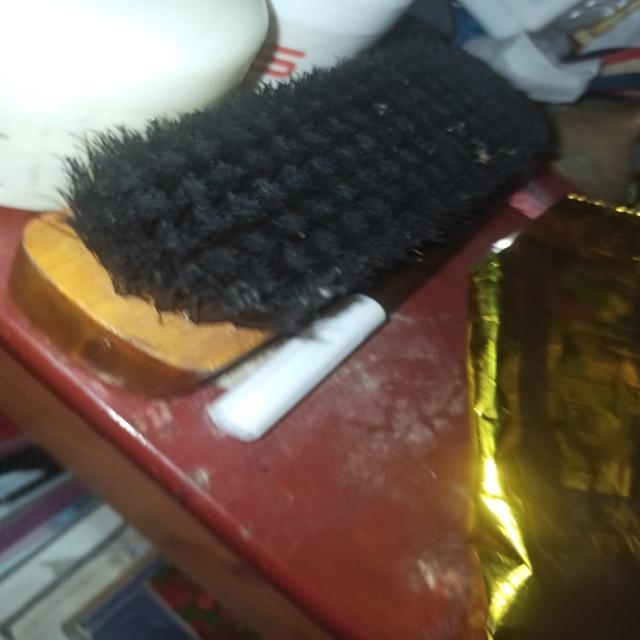Harischandra Coffee: (472, 223, 640, 640)
